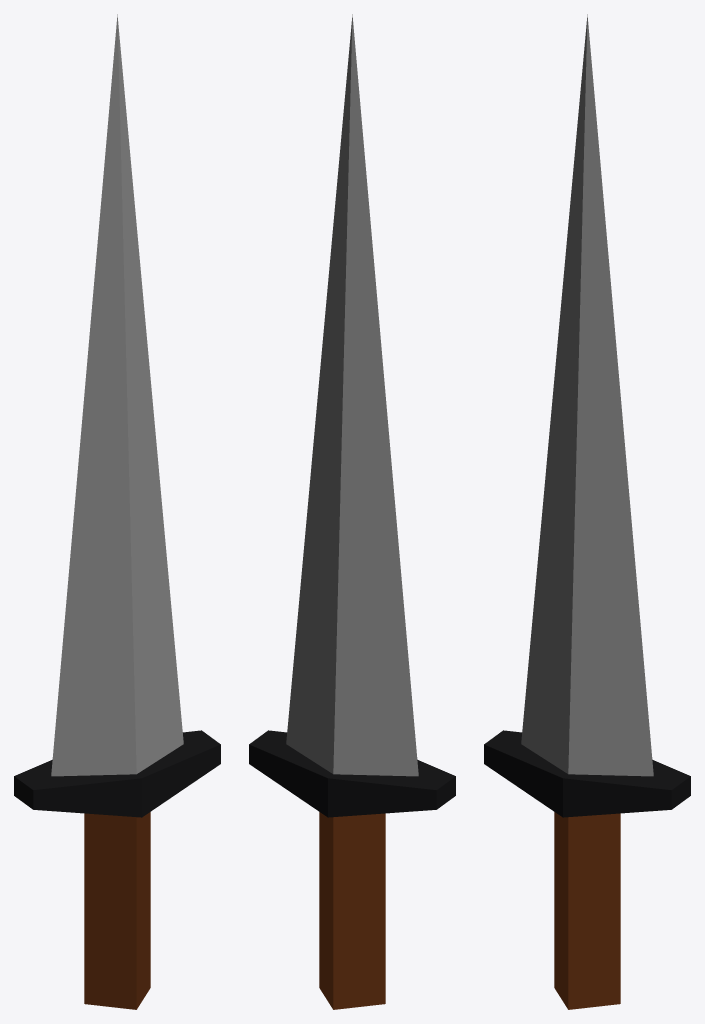
File: item.sword.obj
The picture shows the model from 3 angles, left to right: view 1: azimuth 30°, elevation 25°; view 2: azimuth 150°, elevation 25°; view 3: azimuth 330°, elevation 25°; orthographic projection.
Visible parts, largest first — view 1: sword_Cube.001; view 2: sword_Cube.001; view 3: sword_Cube.001.
Part boxes in pixels (<box>): sword_Cube.001: <box>14,14,220,1009</box>; sword_Cube.001: <box>249,14,455,1009</box>; sword_Cube.001: <box>484,14,690,1009</box>.
Size of the model in its own units: 0.25 by 1.25 by 0.1134.
